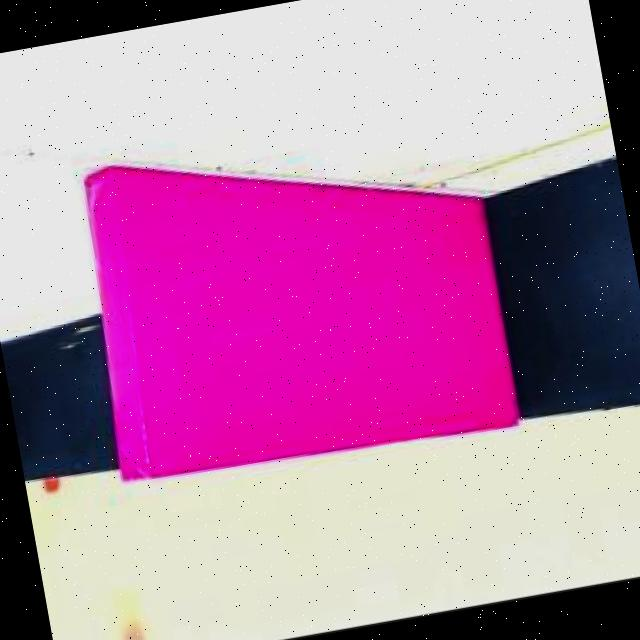xparking: (86, 202, 510, 481)
